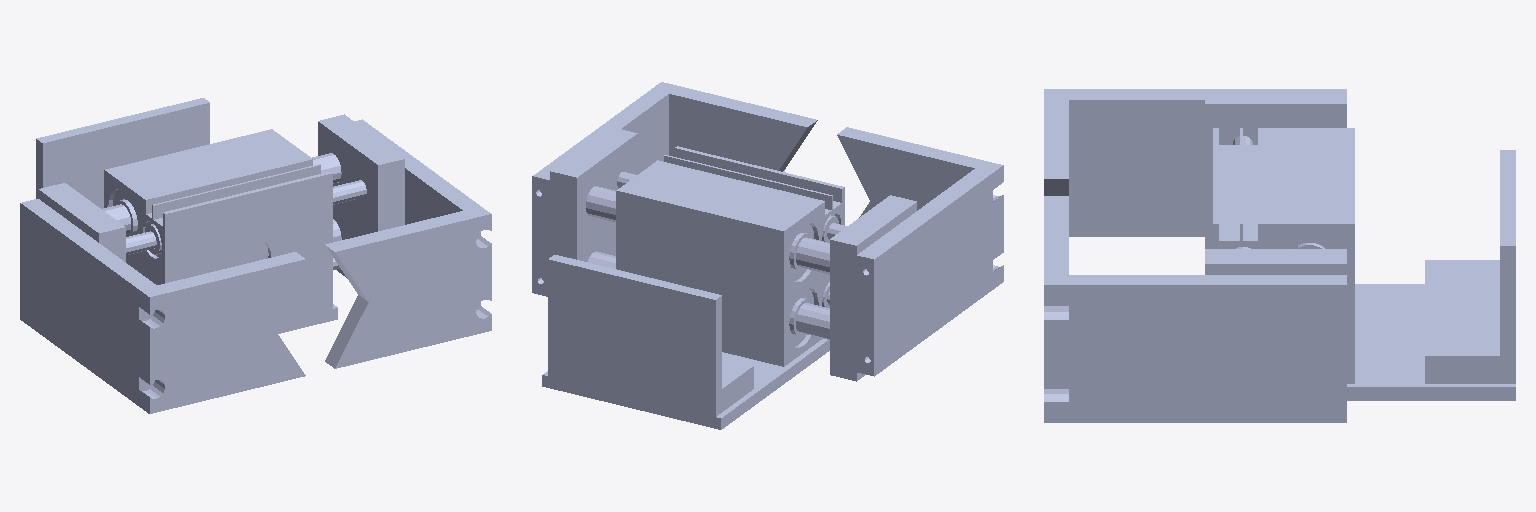
URDF robot description (gripper):
<?xml version="1.0" encoding="utf-8"?>
<!-- This URDF was automatically created by SolidWorks to URDF Exporter! Originally created by [author] ([email redacted]) 
     Commit Version: 1.6.0-4-g7f85cfe  Build Version: 1.6.7995.38578
     For more information, please see http://wiki.ros.org/sw_urdf_exporter -->
<robot
  name="gripper">
  <link
    name="gripper_head">
    <inertial>
      <origin
        xyz="0.00323055318421452 0.00571269700091375 0.00847802343130645"
        rpy="0 0 0" />
      <mass
        value="0.000248817240273109" />
      <inertia
        ixx="1.24533619200803E-09"
        ixy="3.98193864519775E-14"
        ixz="-4.71443407373705E-13"
        iyy="1.85586084685055E-09"
        iyz="4.91941940817118E-11"
        izz="1.72781442655061E-09" />
    </inertial>
    <visual>
      <origin
        xyz="0 0 0"
        rpy="0 0 0" />
      <geometry>
        <mesh
          filename="package://gripper/meshes/gripper_head.STL" />
      </geometry>
      <material
        name="">
        <color
          rgba="0.792156862745098 0.819607843137255 0.933333333333333 1" />
      </material>
    </visual>
    <collision>
      <origin
        xyz="0 0 0"
        rpy="0 0 0" />
      <geometry>
        <mesh
          filename="package://gripper/meshes/gripper_head.STL" />
      </geometry>
    </collision>
  </link>
  <link
    name="left_gripper_link">
    <inertial>
      <origin
        xyz="0.00257506972135058 2.01670223389577E-05 0.0106733481729336"
        rpy="0 0 0" />
      <mass
        value="0.000110343960618183" />
      <inertia
        ixx="5.35540734738421E-10"
        ixy="2.72556779627456E-15"
        ixz="-2.39067108113678E-13"
        iyy="6.68288834173598E-10"
        iyz="-3.61159619464986E-15"
        izz="5.67832018123353E-10" />
    </inertial>
    <visual>
      <origin
        xyz="0 0 0"
        rpy="0 0 0" />
      <geometry>
        <mesh
          filename="package://gripper/meshes/left_gripper_link.STL" />
      </geometry>
      <material
        name="">
        <color
          rgba="0.792156862745098 0.819607843137255 0.933333333333333 1" />
      </material>
    </visual>
    <collision>
      <origin
        xyz="0 0 0"
        rpy="0 0 0" />
      <geometry>
        <mesh
          filename="package://gripper/meshes/left_gripper_link.STL" />
      </geometry>
    </collision>
  </link>
  <joint
    name="left_gripper_joint"
    type="prismatic">
    <origin
      xyz="-0.0044172 -0.0017529 0.0065639"
      rpy="1.5708 0 0" />
    <parent
      link="gripper_head" />
    <child
      link="left_gripper_link" />
    <axis
      xyz="1 0 0" />
    <limit
      lower="-0.0033"
      upper="0"
      effort="0"
      velocity="0" />
  </joint>
  <link
    name="right_gripper_link">
    <inertial>
      <origin
        xyz="0.0116249302786494 -0.000222760534768027 0.0106733481729336"
        rpy="0 0 0" />
      <mass
        value="0.000110343960618183" />
      <inertia
        ixx="5.35540734738421E-10"
        ixy="2.72556779624708E-15"
        ixz="2.39067108113796E-13"
        iyy="6.68288834173598E-10"
        iyz="3.61159619452802E-15"
        izz="5.67832018123353E-10" />
    </inertial>
    <visual>
      <origin
        xyz="0 0 0"
        rpy="0 0 0" />
      <geometry>
        <mesh
          filename="package://gripper/meshes/right_gripper_link.STL" />
      </geometry>
      <material
        name="">
        <color
          rgba="0.792156862745098 0.819607843137255 0.933333333333333 1" />
      </material>
    </visual>
    <collision>
      <origin
        xyz="0 0 0"
        rpy="0 0 0" />
      <geometry>
        <mesh
          filename="package://gripper/meshes/right_gripper_link.STL" />
      </geometry>
    </collision>
  </link>
  <joint
    name="right_gripper_joint"
    type="prismatic">
    <origin
      xyz="-0.0033172 -0.0017529 0.0065639"
      rpy="1.5708 0 0" />
    <parent
      link="gripper_head" />
    <child
      link="right_gripper_link" />
    <axis
      xyz="1 0 0" />
    <limit
      lower="-0.0033"
      upper="0"
      effort="0"
      velocity="0" />
  </joint>
</robot>

--- Facts derived from the render (not from the file) ---
The picture shows the robot from 3 angles, left to right: view 1: azimuth 30°, elevation 25°; view 2: azimuth 150°, elevation 25°; view 3: azimuth 270°, elevation 25°; orthographic projection.
Robot: gripper — 3 links, 2 joints (2 prismatic); root link gripper_head; default pose: every joint at zero.
Visible links, largest first — view 1: left_gripper_link, gripper_head, right_gripper_link; view 2: gripper_head, left_gripper_link, right_gripper_link; view 3: right_gripper_link, gripper_head, left_gripper_link.
Link boxes in pixels (x1,y1,x2,y2): left_gripper_link: (20,153,341,413); gripper_head: (36,98,337,333); right_gripper_link: (126,114,491,368); gripper_head: (542,146,844,429); left_gripper_link: (586,127,1003,381); right_gripper_link: (532,82,846,339); right_gripper_link: (1044,136,1346,422); gripper_head: (1213,128,1515,400); left_gripper_link: (1044,89,1346,248).
Bounding box of the posed robot: 0.0153 × 0.0155 × 0.0063 m (x, y, z).
Meshes: 3 distinct files referenced, 3 mesh visuals loaded (3 binary STL).
